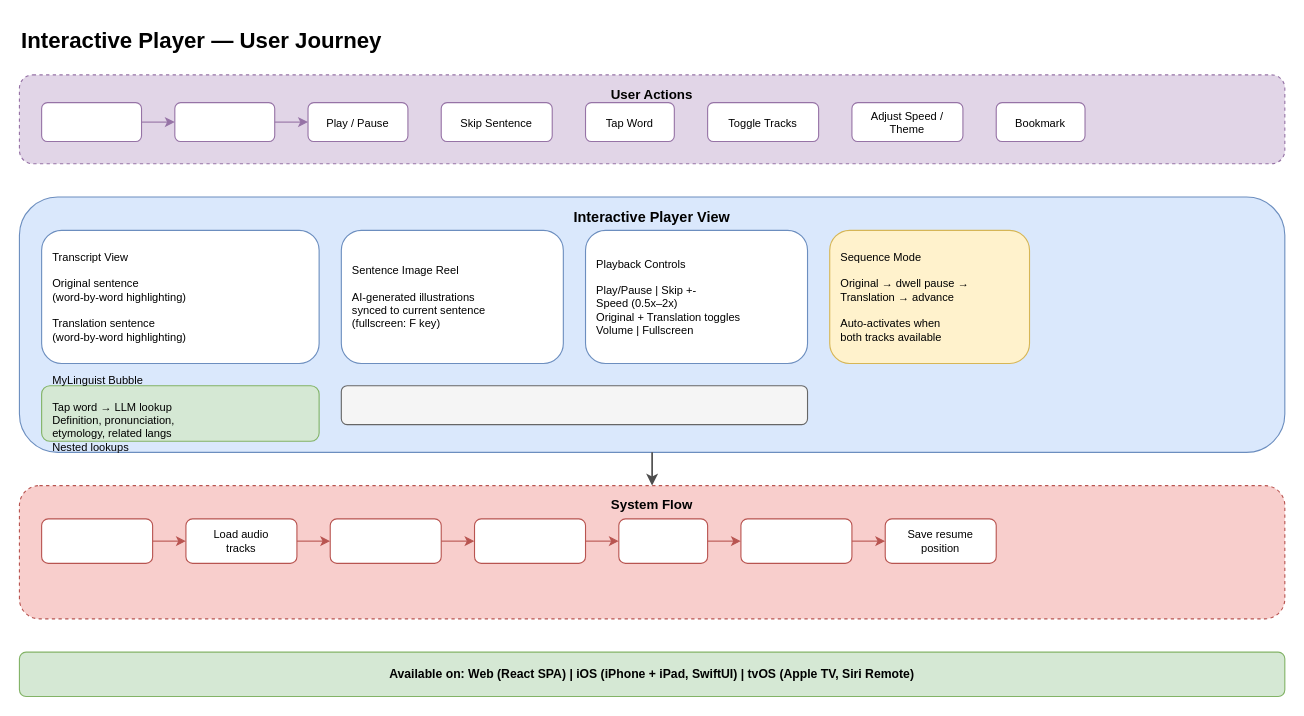
Image size: 1304x716. Some labels were removed from this diagram. Here are the shapes that lost their labels. From the top down, the centre of each, then its label:
At point (91, 122): "Open Library".
At point (224, 122): "Select Book".
At point (574, 405): "Resume Position (auto-saved) | Bookmarks (manual)".
At point (97, 540): "Fetch chunk metadata".
At point (385, 540): "AudioSync Controller".
At point (529, 540): "timingStore (token index)".
At point (663, 540): "Word highlight".
At point (796, 540): "Prefetch next chunks".
